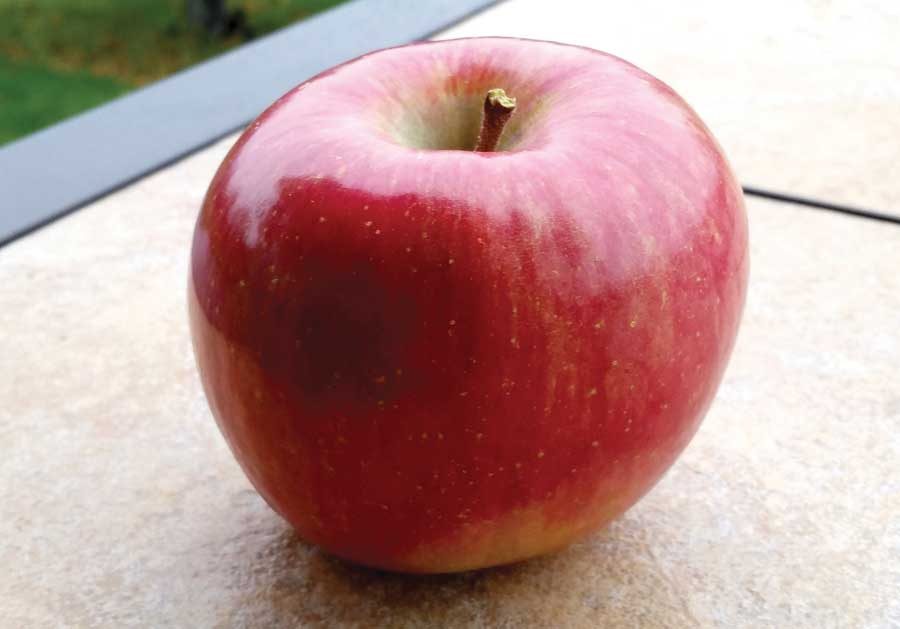apple: (184, 35, 752, 573)
